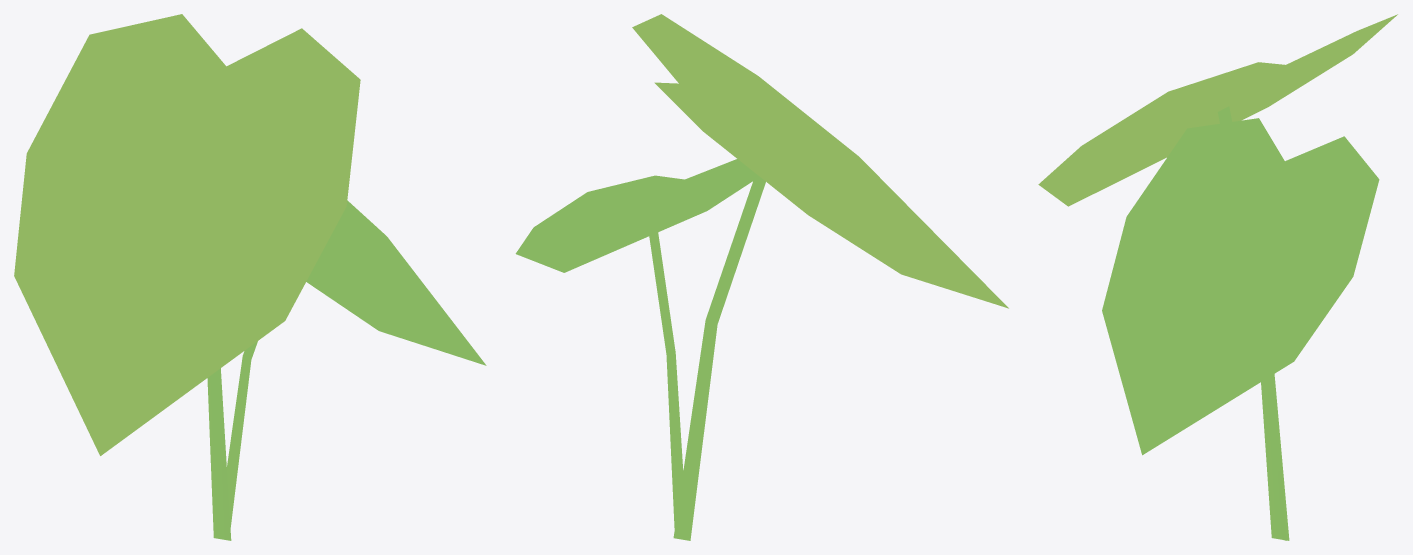
File: Plant_d_OneS_04.fbx
The picture shows the model from 3 angles, left to right: view 1: azimuth 30°, elevation 25°; view 2: azimuth 150°, elevation 25°; view 3: azimuth 270°, elevation 25°; orthographic projection. The views are drawn at different scales.
Visible parts, largest first — view 1: Plant_d_OneS_04; view 2: Plant_d_OneS_04; view 3: Plant_d_OneS_04.
Boxes of the visible parts, box(x1,y1,x2,y2) form: Plant_d_OneS_04: box(14, 14, 486, 540); Plant_d_OneS_04: box(515, 14, 1008, 540); Plant_d_OneS_04: box(1038, 14, 1397, 540).
Bounding box in the file's own units: 0.6038 × 0.6844 × 0.4405.
